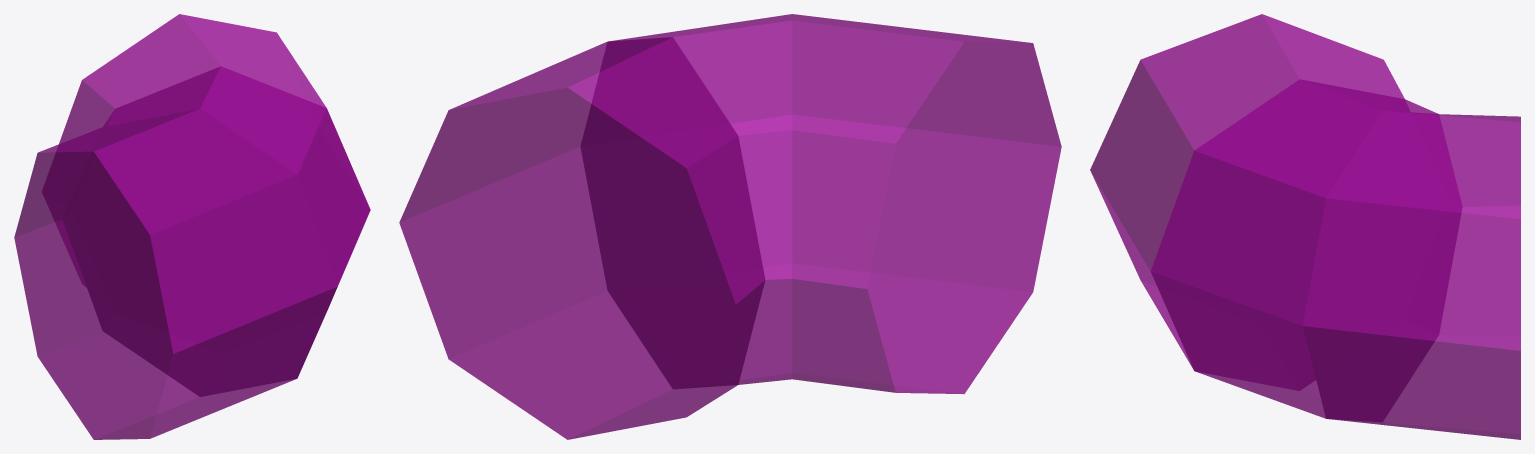
Rendered from SM_Prop_Pipe_Bend_05_Collision.fbx.
3 views of the same model, side by side, from view 1: azimuth 30°, elevation 25°; view 2: azimuth 150°, elevation 25°; view 3: azimuth 270°, elevation 25° (orthographic). The views are drawn at different scales.
Parts seen in each view (by area): view 1: SM_Prop_Pipe_Bend_05_Collision; view 2: SM_Prop_Pipe_Bend_05_Collision; view 3: SM_Prop_Pipe_Bend_05_Collision.
Boxes of the visible parts, x1=… form: SM_Prop_Pipe_Bend_05_Collision: x1=14, y1=14, x2=370, y2=439; SM_Prop_Pipe_Bend_05_Collision: x1=399, y1=14, x2=1061, y2=439; SM_Prop_Pipe_Bend_05_Collision: x1=1090, y1=14, x2=1520, y2=439.
Size of the model in its own units: 93.07 by 74.77 by 93.61.
